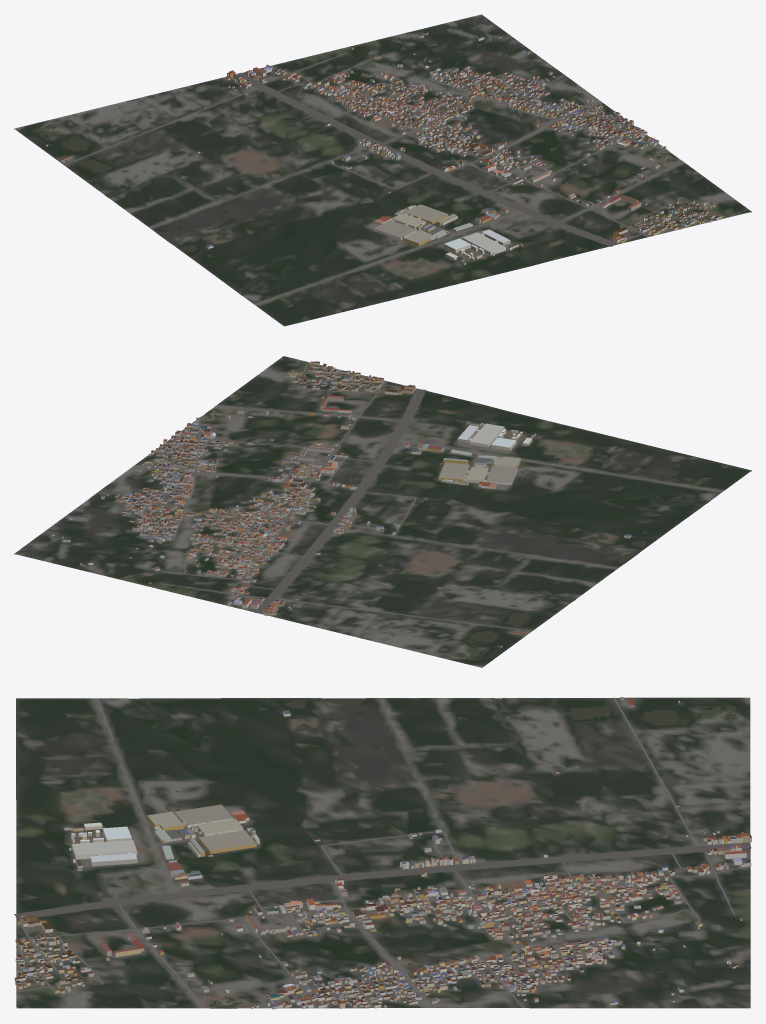
The picture shows the model from 3 angles, top to bottom: view 1: azimuth 30°, elevation 25°; view 2: azimuth 150°, elevation 25°; view 3: azimuth 270°, elevation 25°; orthographic projection. The views are drawn at different scales.
Visible parts, largest first — view 1: ground, buildings, roads, water; view 2: ground, buildings, roads, water; view 3: ground, buildings, roads, water.
Part boxes in pixels (box(x1,y1,x2,y2)): ground: box(14, 14, 751, 326); buildings: box(46, 32, 722, 264); roads: box(64, 52, 731, 304); water: box(33, 121, 678, 295); ground: box(14, 356, 751, 667); buildings: box(51, 361, 631, 647); roads: box(97, 361, 721, 631); water: box(203, 408, 708, 660); ground: box(16, 697, 750, 1008); buildings: box(14, 697, 751, 1009); roads: box(14, 697, 751, 1008); water: box(50, 698, 740, 1007).
Size of the model in its own units: 1409 by 21.04 by 1409.
